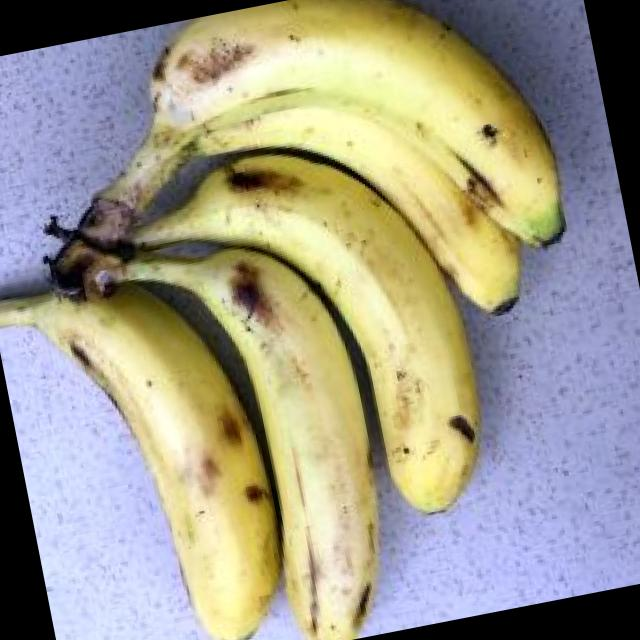banana: (27, 139, 508, 553)
